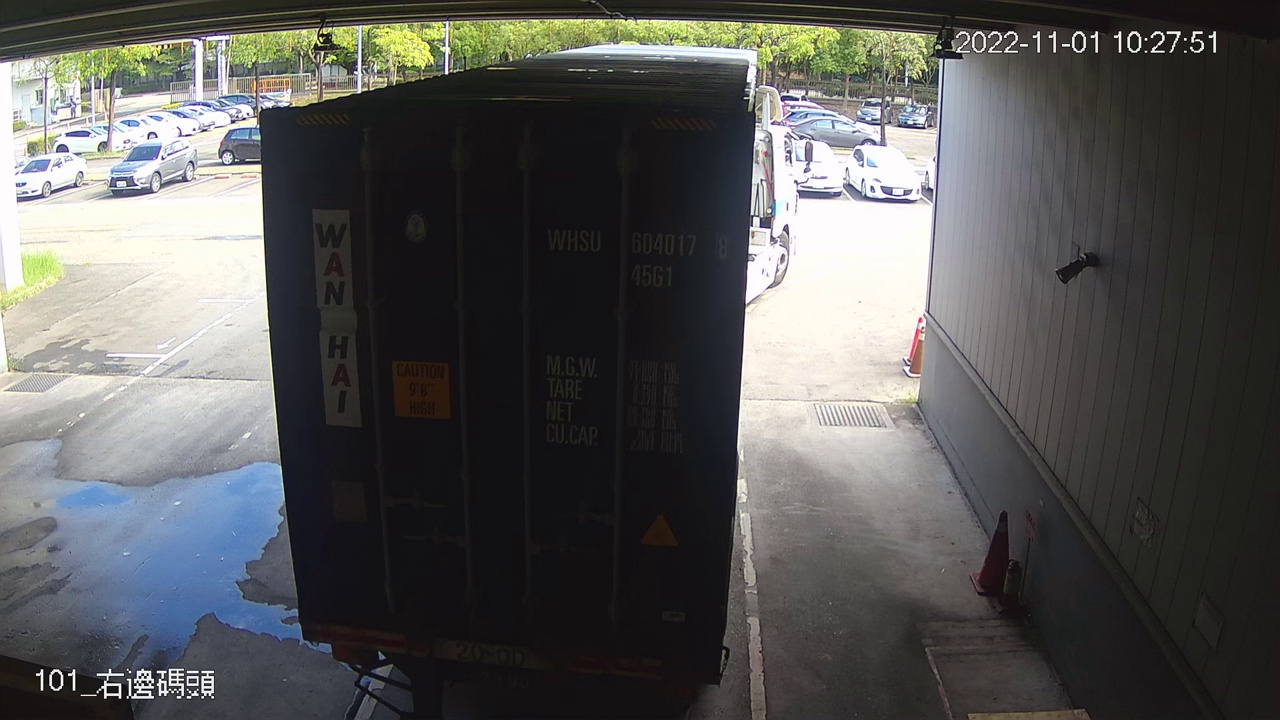container: (537, 216, 738, 294)
